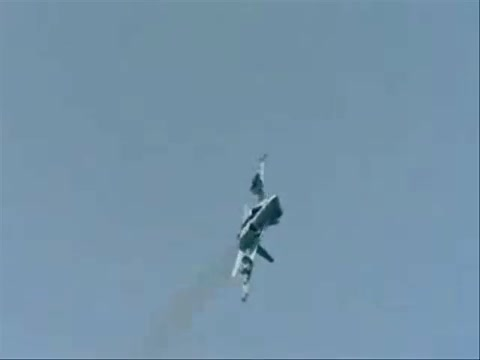aeroplane: (231, 150, 288, 303)
